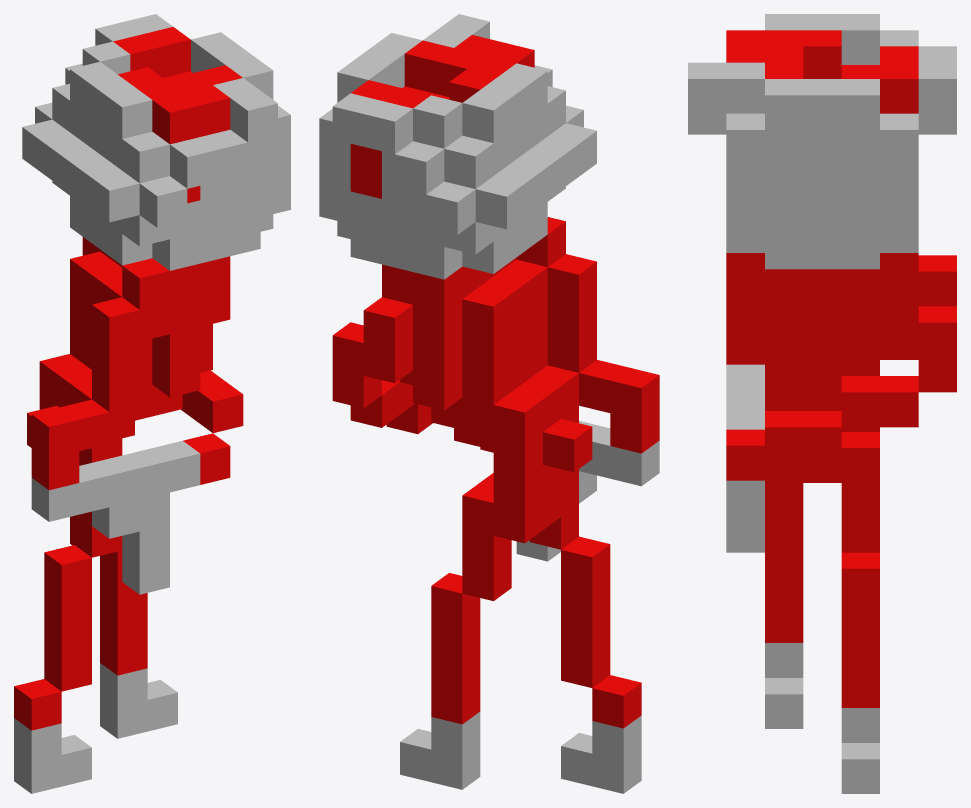
File: shoot_04.fbx
3 views of the same model, side by side, from view 1: azimuth 30°, elevation 25°; view 2: azimuth 150°, elevation 25°; view 3: azimuth 270°, elevation 25° (orthographic). The views are drawn at different scales.
Parts seen in each view (by area): view 1: Untitled, Untitled.002, Untitled.001; view 2: Untitled, Untitled.002, Untitled.001; view 3: Untitled, Untitled.002, Untitled.001.
Part boxes in pixels (bbox=[...]): Untitled: bbox=[14, 27, 243, 730]; Untitled.002: bbox=[14, 14, 290, 793]; Untitled.001: bbox=[70, 101, 290, 239]; Untitled: bbox=[332, 35, 659, 728]; Untitled.002: bbox=[319, 14, 659, 793]; Untitled.001: bbox=[319, 104, 547, 246]; Untitled: bbox=[726, 30, 956, 707]; Untitled.002: bbox=[688, 14, 956, 793]; Untitled.001: bbox=[726, 130, 918, 234].
Bounding box in the file's own units: 80 × 210 × 70.
